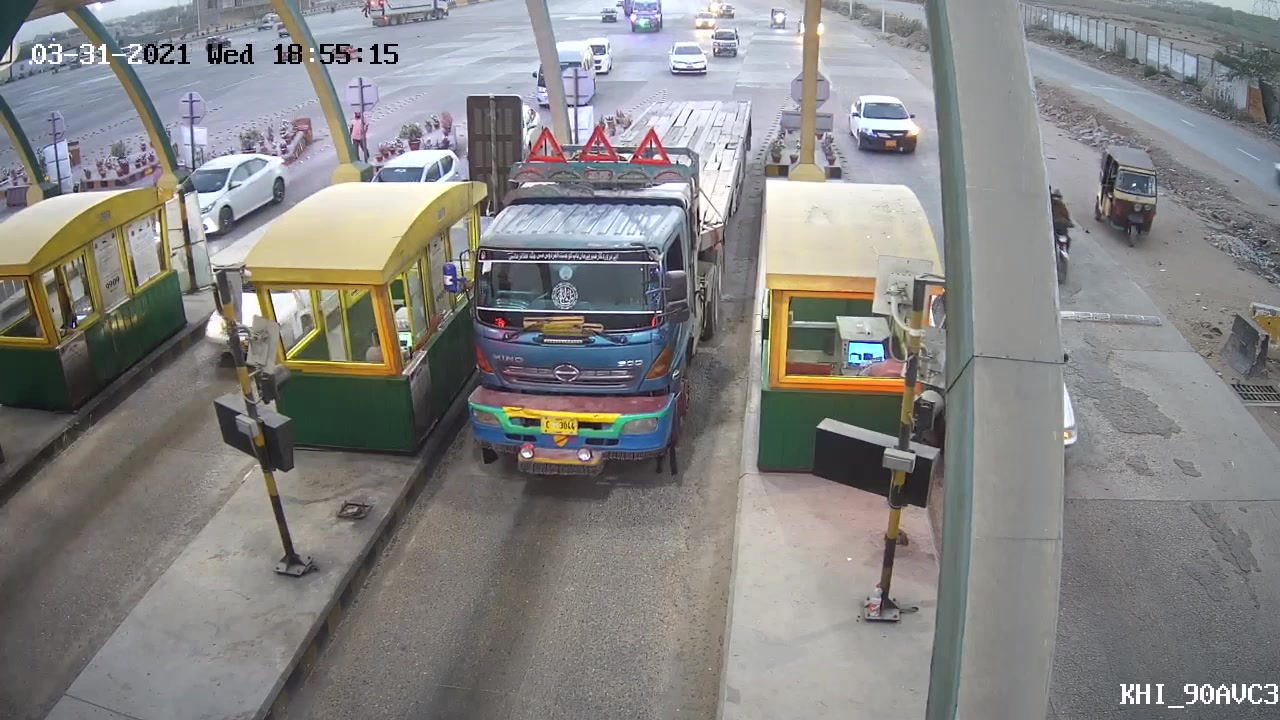F6: (440, 118, 725, 484)
